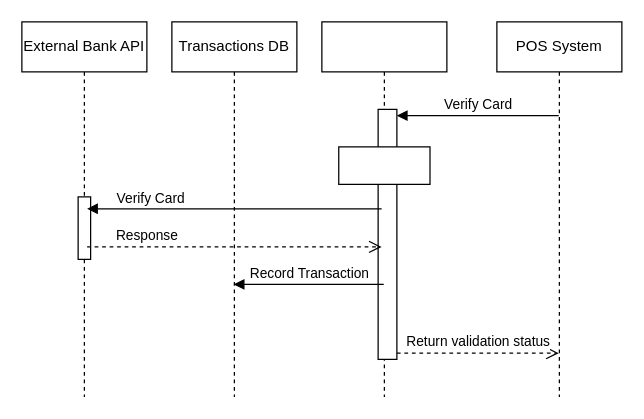
This 644x419 diagram has some shape labels left out. The box of each missing label's shape, as (x1, y1, x2, y2) in pixels:
Clearinghouse: (321, 21, 447, 397)
Identify Bank: (338, 146, 430, 184)
